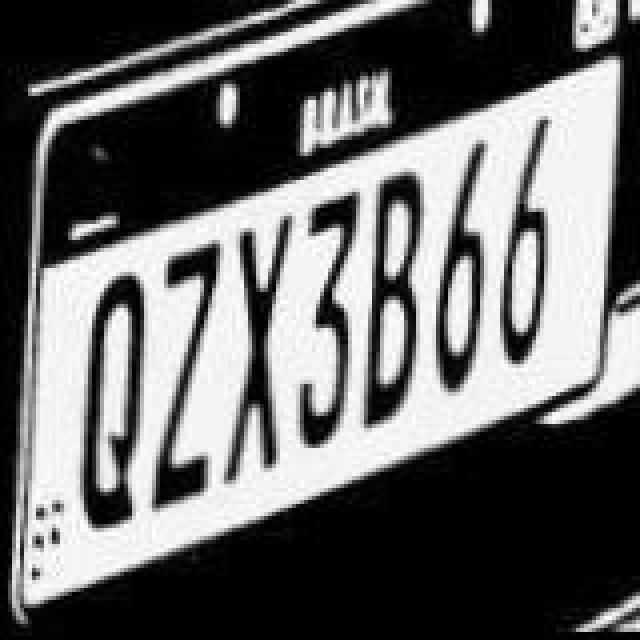3: (296, 188, 368, 452)
6: (426, 138, 494, 398), (492, 116, 556, 376)
B: (362, 172, 430, 440)
Q: (72, 272, 148, 532)
X: (220, 208, 300, 488)
Z: (146, 236, 226, 516)
